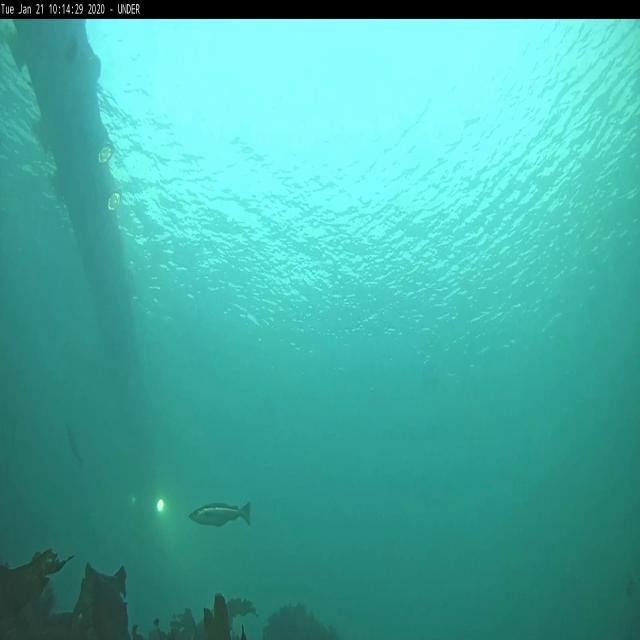fish: (190, 502, 252, 528), (64, 426, 86, 468)
